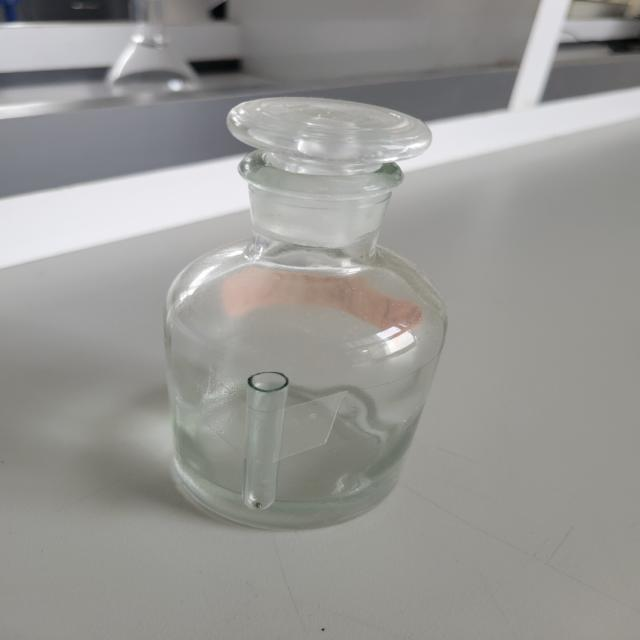Reagent_Bottle: (72, 49, 518, 564)
